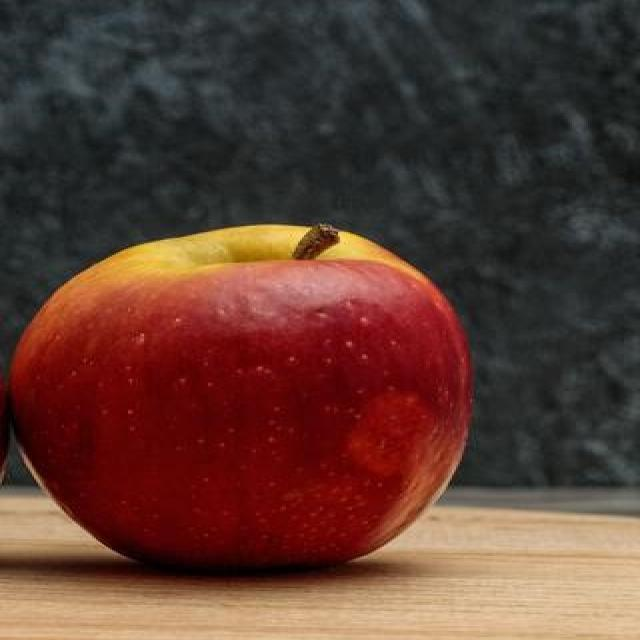overripe: (2, 214, 482, 580)
